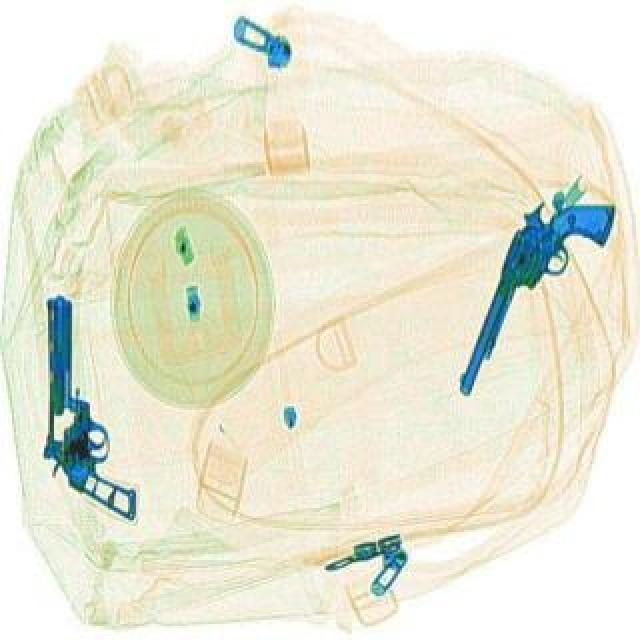gun: (458, 180, 622, 418), (40, 292, 148, 516)
